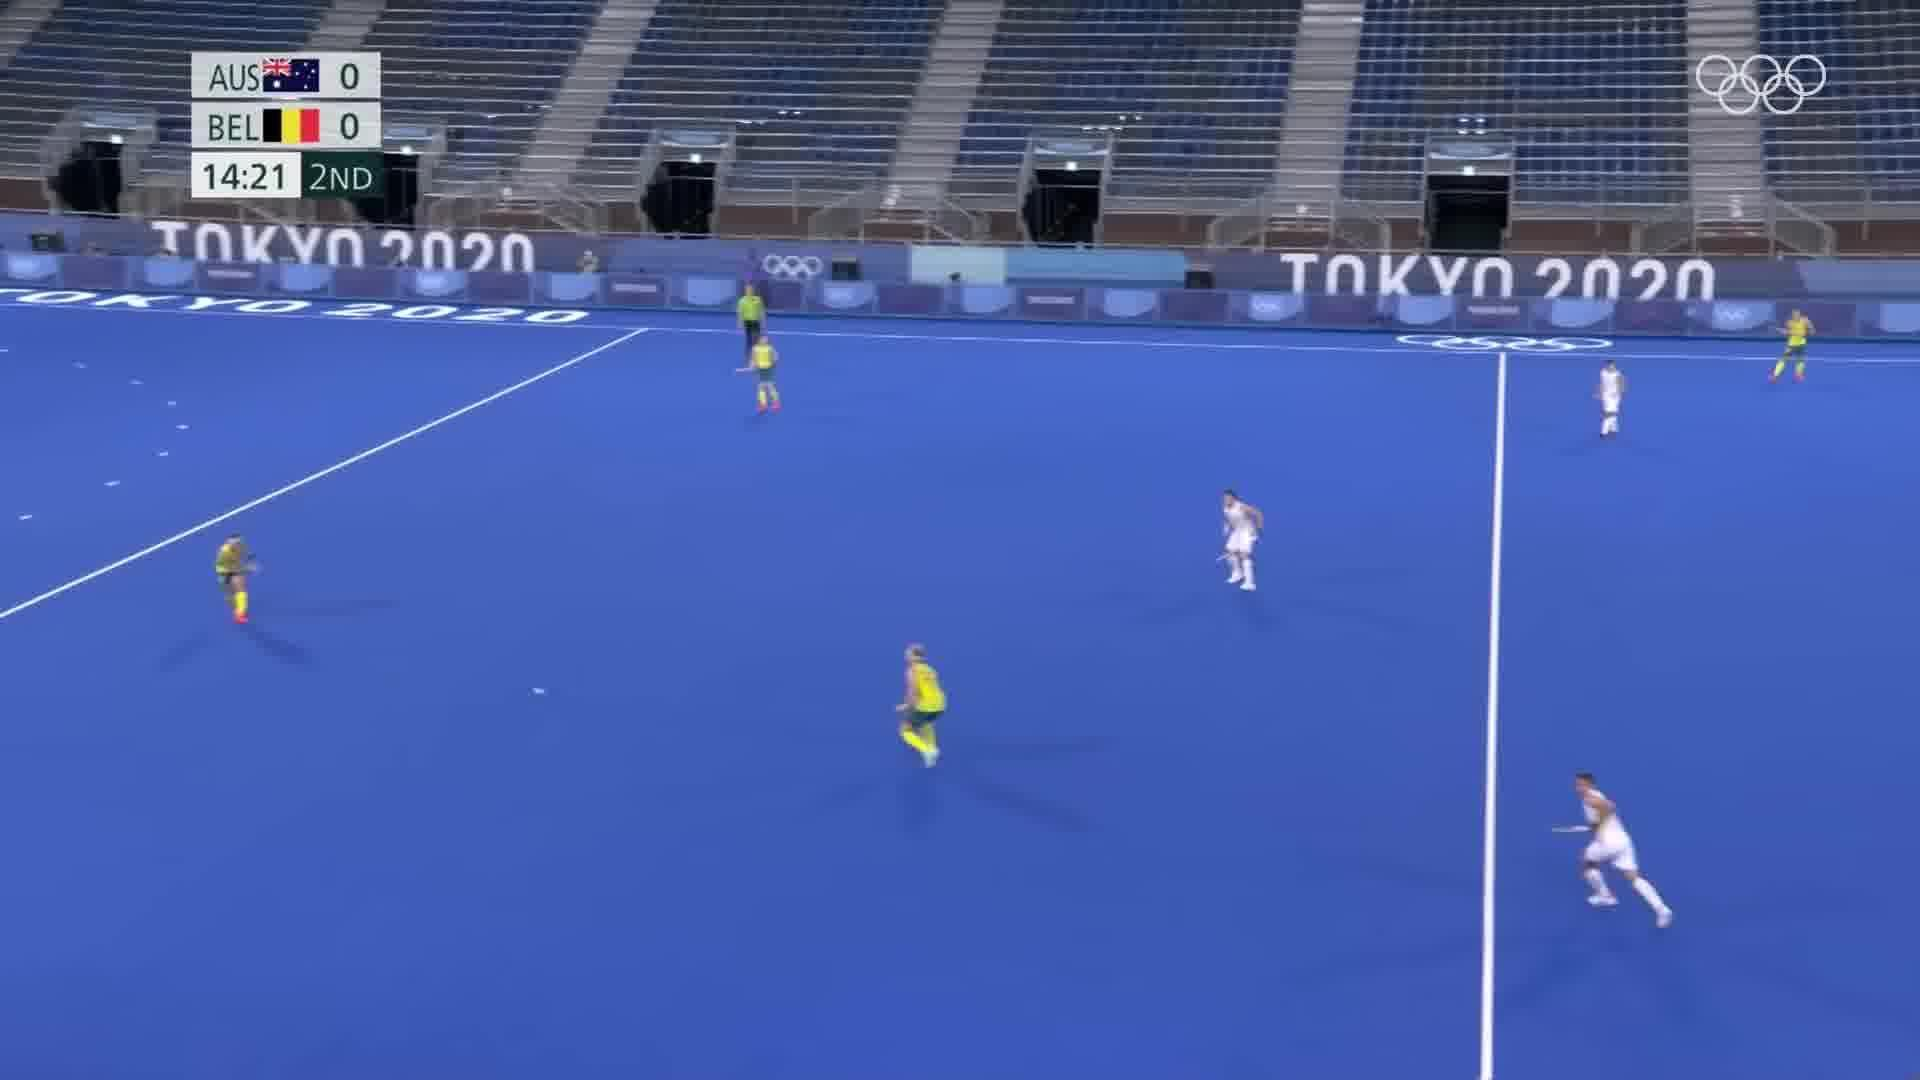ball: (521, 673, 556, 702)
